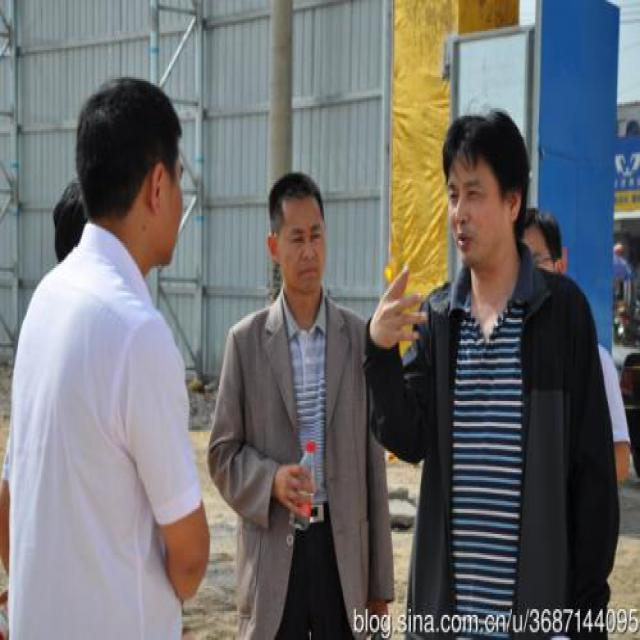head: (70, 71, 191, 279), (443, 103, 532, 283), (261, 165, 332, 305), (516, 204, 562, 285)
person: (360, 99, 627, 638), (9, 70, 216, 639), (204, 162, 396, 636)
